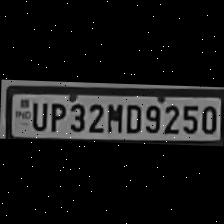0: (198, 102, 218, 134)
2: (85, 98, 105, 132), (160, 101, 178, 133)
3: (66, 98, 86, 131)
5: (178, 100, 198, 132)
9: (141, 100, 161, 132)
D: (122, 99, 142, 132)
M: (104, 98, 122, 132)
P: (46, 97, 66, 130)
U: (28, 98, 46, 130)
